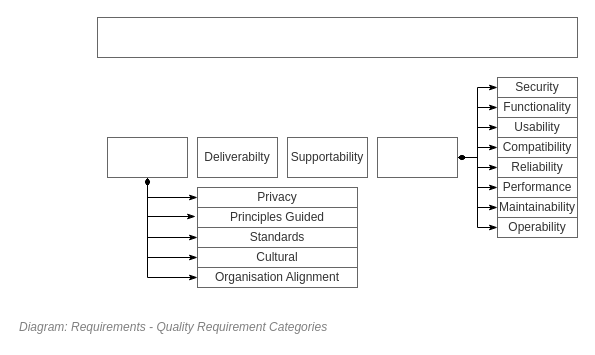
Image size: 595x355. Some labels were removed from this diagram. The shapes that lost their labels are listed below. From the top down, each one's box as (x1, y1, x2, y2) in pixels, then its label:
(96, 16, 578, 58): Accreditability
(106, 136, 188, 178): Legality & Regulations & Obligations
(376, 136, 458, 178): ISO-25010
